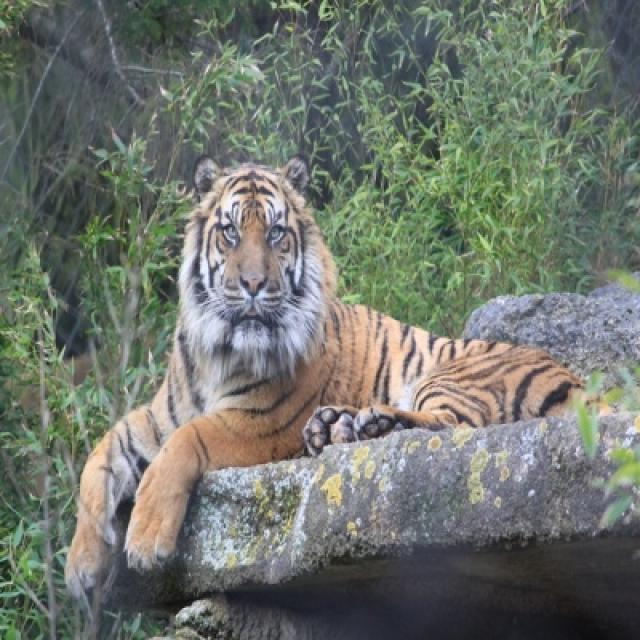Tiger: (62, 150, 589, 603)
